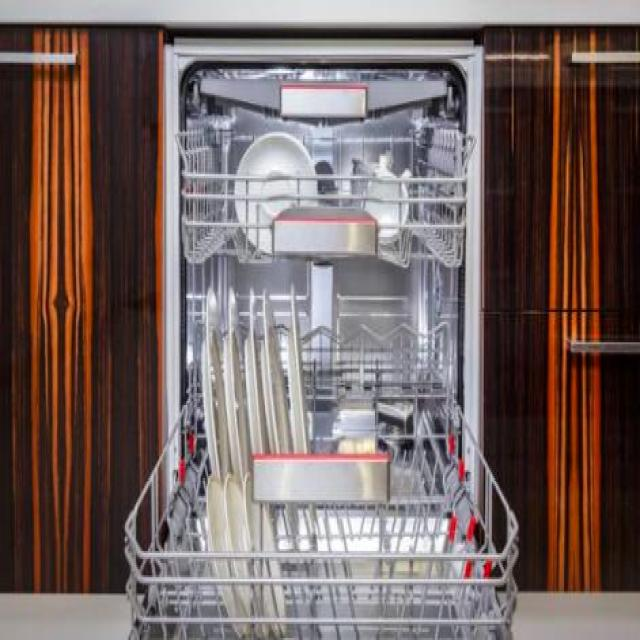dishwasher: (120, 24, 514, 638)
